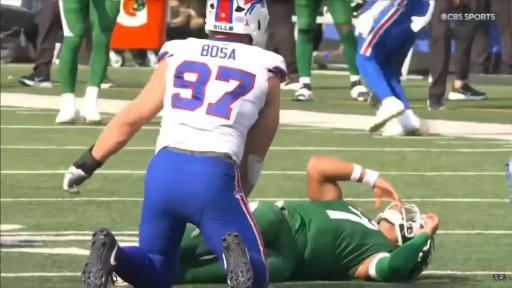Helmet: (206, 0, 269, 47), (376, 203, 424, 245), (376, 203, 422, 245), (406, 238, 434, 279)
Jersey: (156, 38, 286, 162), (284, 200, 394, 280)
Player: (64, 0, 286, 287), (251, 157, 438, 282), (356, 0, 434, 133), (56, 0, 121, 123), (293, 0, 369, 101)
